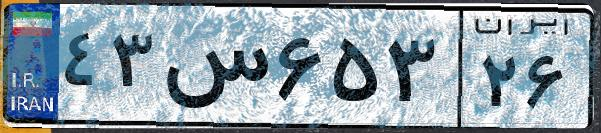2: (475, 38, 525, 113)
3: (385, 28, 445, 110), (110, 28, 158, 98)
4: (57, 26, 110, 100)
5: (330, 28, 385, 110)
6: (270, 28, 330, 110), (525, 38, 570, 115)
س: (158, 20, 270, 120)
